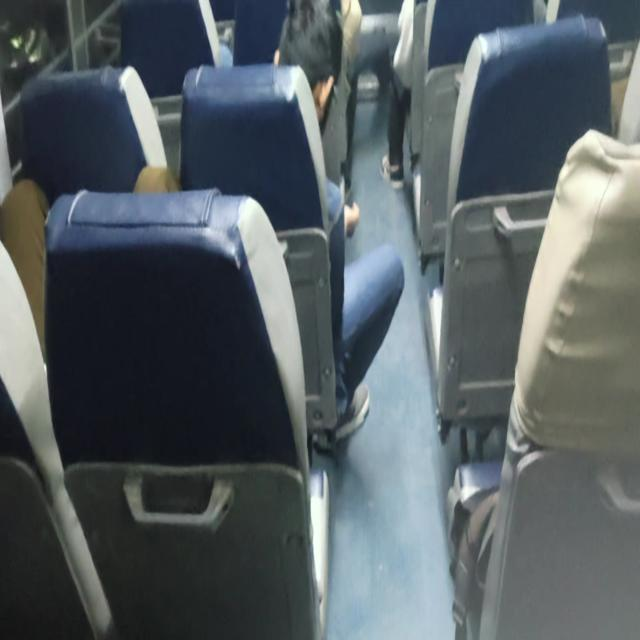person: (271, 0, 345, 142)
